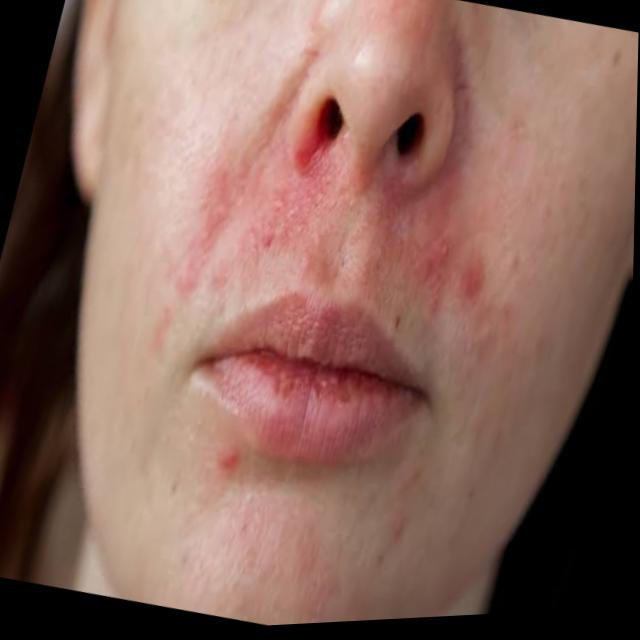Eczema Mild: (170, 95, 565, 403)
